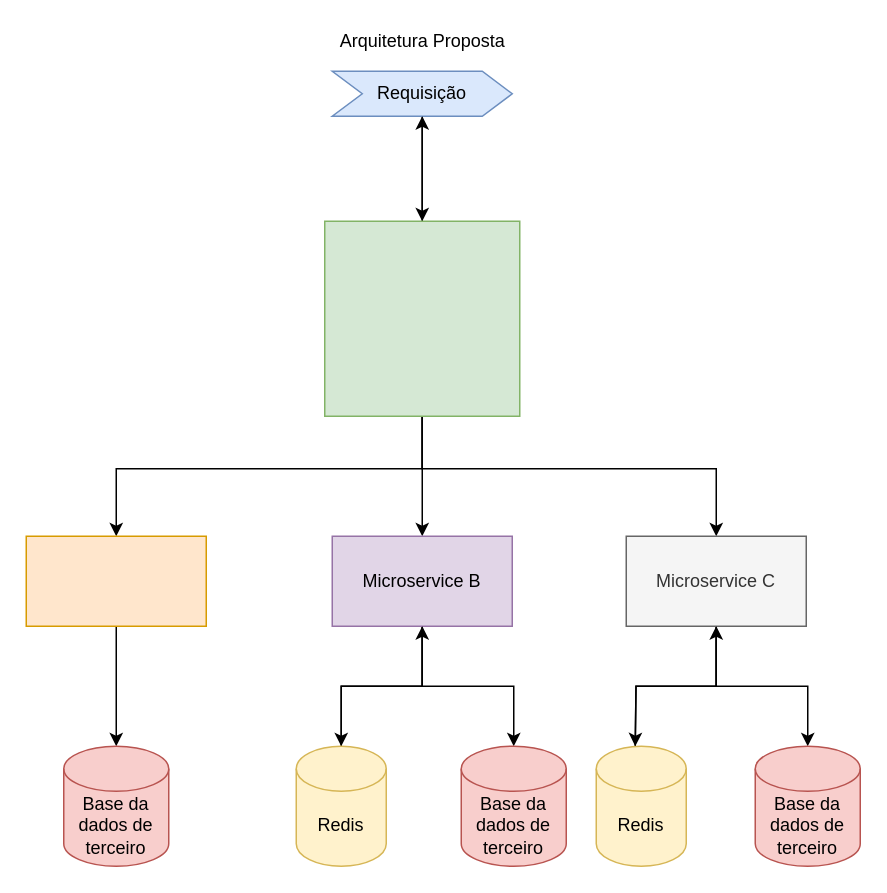
This 887x893 diagram has some shape labels left out. The centre of each missing label's shape, as x and y in pixels:
Api Gateway (Async): the point at 421,318
Microservice A: the point at 115,580
